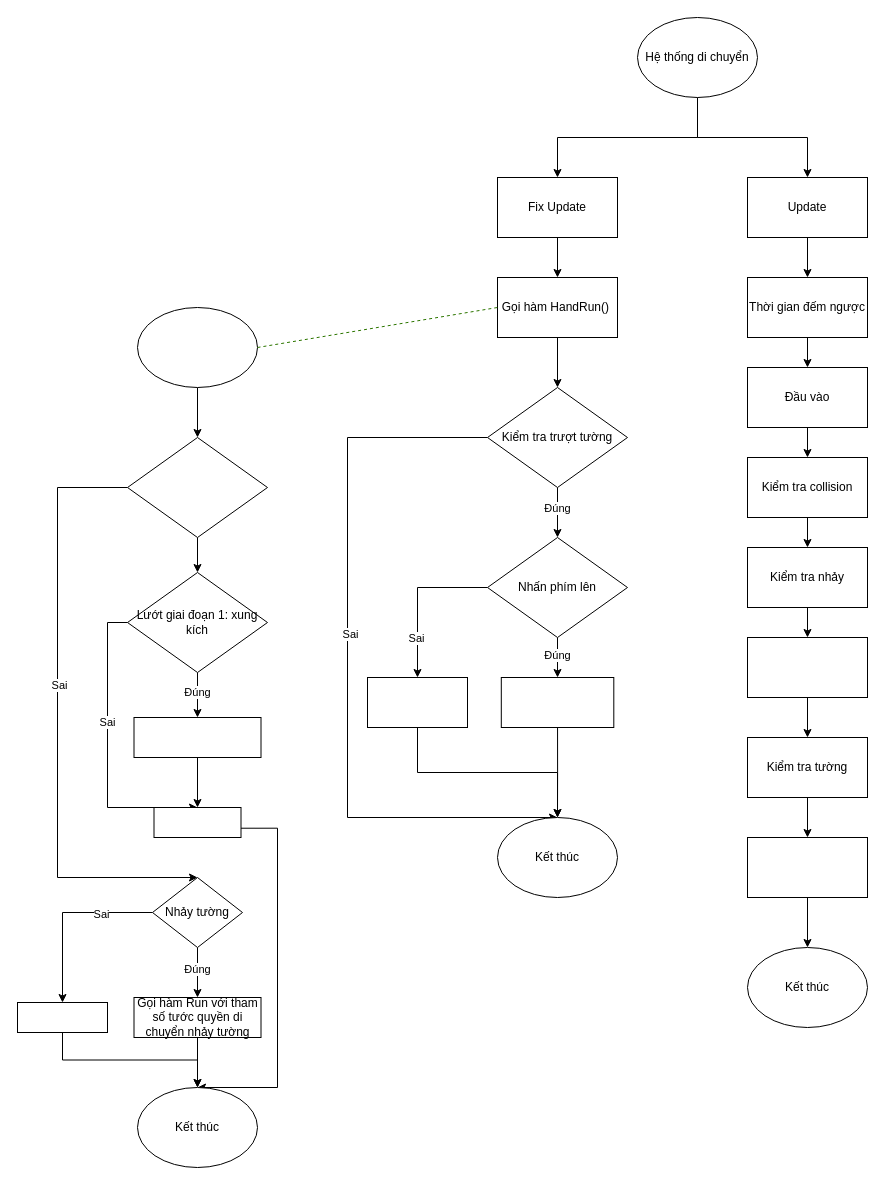
This 885x1185 diagram has some shape labels left out. Each missing label, with the centre of its shape:
"Gọi hàm Run với tham số tước quyền di chuyển lướt" goes at pixel 197 737.
"Gọi hàm Slide() Để trượt tường" goes at pixel 417 702.
"Gọi hàm WallClimb() Để leo tường" goes at pixel 557 702.
"Hàm HandleRun()" goes at pixel 197 347.
"Kiểm tra lướt" goes at pixel 807 667.
"Kiểm tra trọng lực" goes at pixel 807 867.
"Trả về/Return" goes at pixel 197 822.
"Đang lướt" goes at pixel 197 487.
"Để 100% quyền điều khiển" goes at pixel 62 1017.
